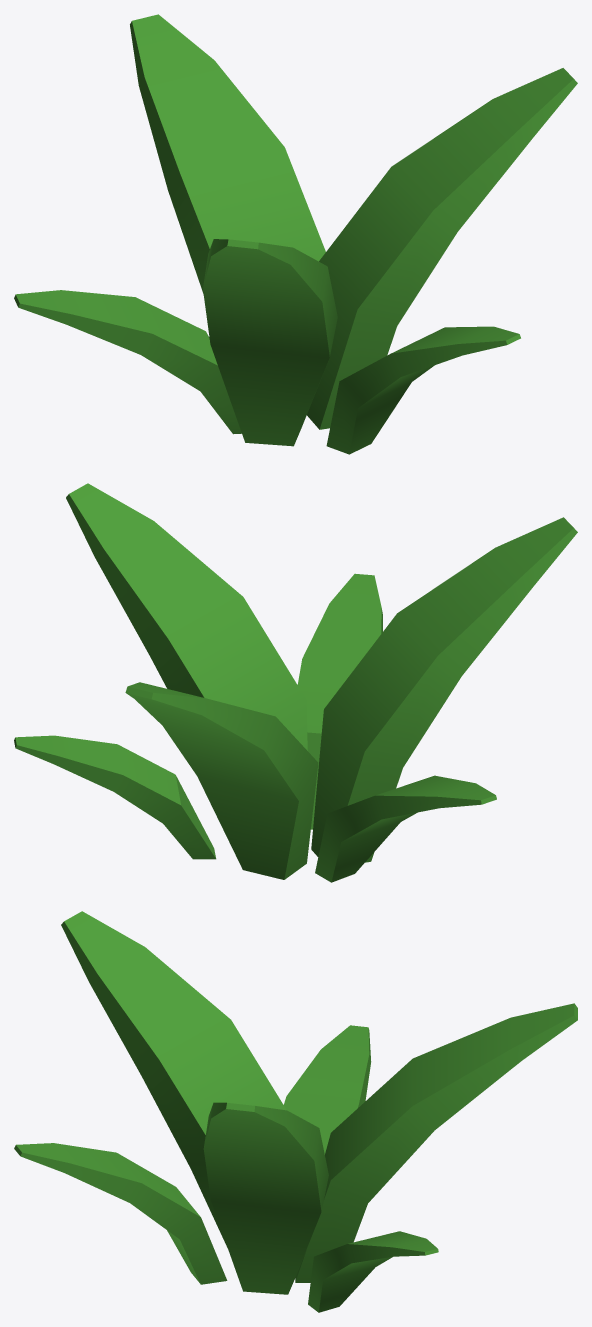
Rendered from Grass.fbx.
3 renders of one model, top to bottom at view 1: azimuth 30°, elevation 25°; view 2: azimuth 150°, elevation 25°; view 3: azimuth 270°, elevation 25°, orthographic. The views are drawn at different scales.
Parts seen in each view (by area): view 1: Plane.094, Plane.093, Plane.095, Plane.097, Plane.096; view 2: Plane.095, Plane.094, Plane.093, Plane.098, Plane.096, Plane.097; view 3: Plane.095, Plane.093, Plane.094, Plane.096, Plane.097, Plane.098.
Part boxes in pixels (x1,y1,x2,y2): Plane.094: (307,68,577,429); Plane.093: (130,14,325,293); Plane.095: (203,239,337,446); Plane.097: (14,290,241,434); Plane.096: (326,326,520,454); Plane.095: (311,517,577,862); Plane.094: (66,483,307,750); Plane.093: (125,682,318,879); Plane.098: (14,735,216,859); Plane.096: (297,573,382,829); Plane.097: (315,775,496,882); Plane.095: (61,911,286,1247); Plane.093: (295,1003,577,1282); Plane.094: (203,1102,328,1294); Plane.096: (14,1143,227,1284); Plane.097: (284,1025,371,1154); Plane.098: (308,1231,438,1312).
Size of the model in its own units: 16.2 by 9.47 by 17.17.
